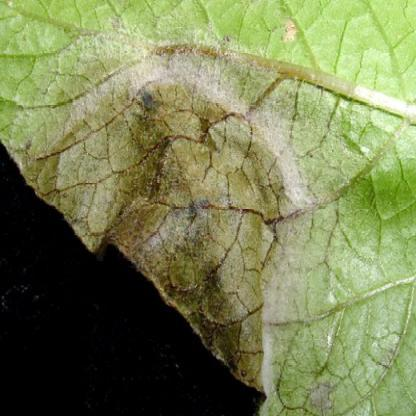Potato leaf late blight: (1, 1, 415, 409)
